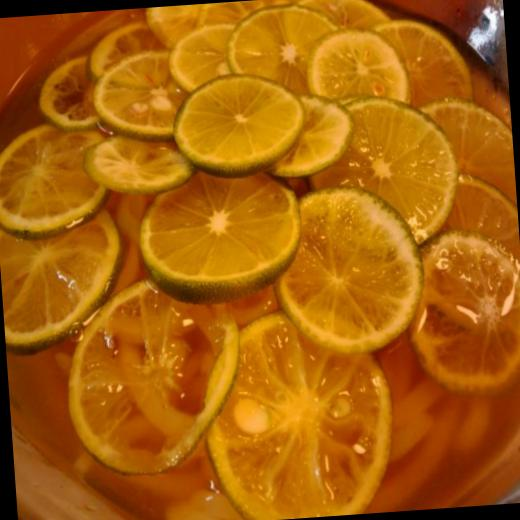Grape: (195, 300, 401, 520), (60, 271, 253, 484), (266, 186, 430, 367), (311, 87, 465, 254), (142, 167, 303, 306), (0, 198, 132, 348), (408, 227, 520, 395), (170, 67, 308, 175), (0, 115, 109, 239), (224, 0, 344, 102), (423, 90, 516, 206), (97, 48, 195, 144), (298, 22, 411, 102), (271, 89, 358, 181), (398, 10, 472, 104), (447, 170, 520, 264), (85, 135, 184, 199), (78, 18, 166, 86), (147, 0, 267, 43), (38, 55, 96, 138), (302, 0, 387, 34)
